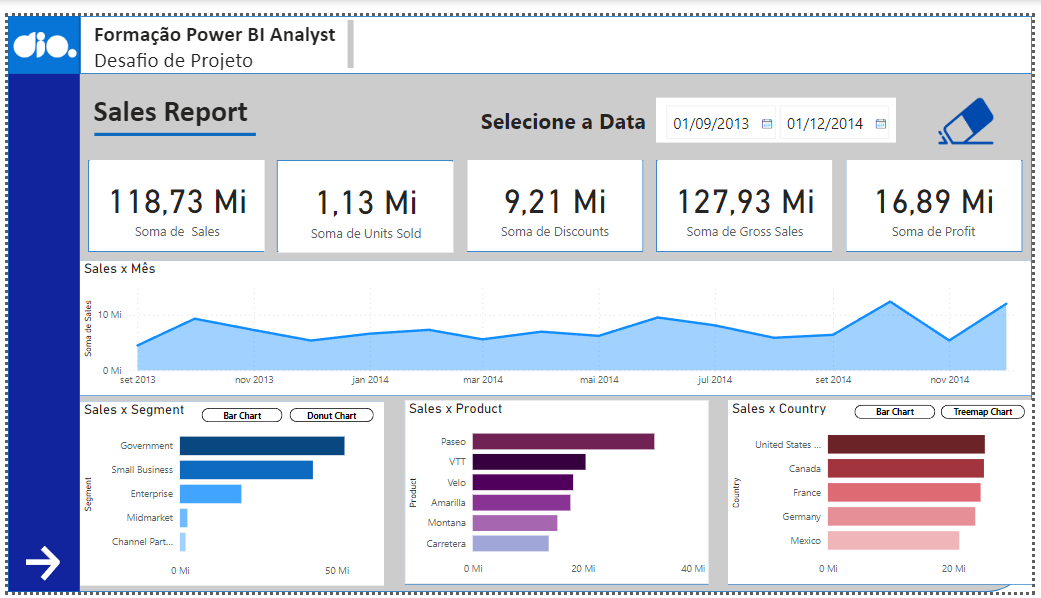

The dashboard page shown, as its layout file describes it:
{"tool":"powerbi","page":{"name":"Página 1","canvas":[1280,720],"ordinal":0},"visuals":[{"type":"shape","box":[0,0,1280,720],"z":0},{"type":"shape","box":[0,0,90,720],"z":0,"group":"g4"},{"type":"group","id":"g1","title":"Cartões","box":[100,180,1168.3,115],"z":0,"group":"g5"},{"type":"shape","box":[100,180,220,115],"z":0,"group":"g1"},{"type":"clusteredBarChart","title":"Sales x Country","fields":{"Y":["Sum(financials. Sales)"],"Category":["financials.Country"]},"box":[900,480,380,230],"z":0,"group":"g3"},{"type":"clusteredBarChart","title":"Sales x Segment","fields":{"Y":["Sum(financials. Sales)"],"Category":["financials.Segment"]},"box":[90,482,380,230],"z":0,"group":"g2"},{"type":"shape","box":[90,0,1190,72.5],"z":1000},{"type":"shape","box":[1048.3,180,220.1,115],"z":1000,"group":"g1"},{"type":"card","fields":{"Values":["Sum(financials.Units Sold)"]},"box":[337,181,219,114],"z":1000,"group":"g5"},{"type":"actionButton","box":[15.8,657.7,59.6,52.6],"z":1000,"group":"g4"},{"type":"shape","box":[0,0,88.9,72.4],"z":2000,"group":"g4"},{"type":"textbox","box":[101.2,0,335,72.5],"z":2000},{"type":"card","fields":{"Values":["Sum(financials.Discounts)"]},"box":[574,180,219,114],"z":2000,"group":"g5"},{"type":"shape","box":[810.2,180,220,115],"z":2000,"group":"g1"},{"type":"shape","title":"b4","box":[1166.5,485.1,105.2,17.5],"z":2000,"group":"g3"},{"type":"shape","title":"b2","box":[351.9,490,105.2,17.5],"z":2000,"group":"g2"},{"type":"image","box":[2.1,0,88.9,72.4],"z":3000,"group":"g4"},{"type":"shape","box":[108,124,202,48],"z":3000},{"type":"shape","box":[574.1,180,220,115],"z":3000,"group":"g1"},{"type":"card","fields":{"Values":["Sum(financials.Gross Sales)"]},"box":[812,180,218,114],"z":3000,"group":"g5"},{"type":"shape","title":"b3","box":[1057.2,485,101.1,17.8],"z":3000,"group":"g3"},{"type":"shape","title":"b1","box":[242.6,489.9,101.1,17.8],"z":3000,"group":"g2"},{"type":"textbox","box":[102,90,250,68],"z":4000},{"type":"shape","box":[336.1,180,220,115],"z":4000,"group":"g1"},{"type":"card","fields":{"Values":["Sum(financials.Profit)"]},"box":[1048,180,218,114],"z":4000,"group":"g5"},{"type":"card","fields":{"Values":["Sum(financials. Sales)"]},"box":[101,180,219,114],"z":5000,"group":"g1"},{"type":"shape","box":[90,305,1190,168.8],"z":5000},{"type":"shape","box":[90,482.2,380,228.9],"z":6000},{"type":"shape","box":[495.6,482.2,380,228.9],"z":7000},{"type":"shape","title":"Forma","box":[900,482,380,229],"z":8000},{"type":"areaChart","title":"Sales x Mês","fields":{"Category":["financials.Date.Variation.Hierarquia de datas.Ano","financials.Date.Variation.Hierarquia de datas.Trimestre","financials.Date.Variation.Hierarquia de datas.Mês","financials.Date.Variation.Hierarquia de datas.Dia"],"Y":["Sum(financials. Sales)"]},"box":[90,306,1188,168],"z":9000},{"type":"clusteredBarChart","title":"Sales x Product","fields":{"Y":["Sum(financials. Sales)"],"Category":["financials.Product"]},"box":[495.7,480,380,230],"z":10000},{"type":"slicer","fields":{"Values":["financials.Date"]},"box":[810,102,300,56],"z":11000},{"type":"textbox","box":[585.8,108.7,224.5,54.4],"z":12000},{"type":"group","id":"g2","title":"Grupo 1","box":[90,482,381.8,230.1],"z":13000},{"type":"group","id":"g3","title":"Grupo 2","box":[899.7,480,380.6,232.1],"z":14000},{"type":"image","box":[1157.5,93,78.9,78.9],"z":15000},{"type":"group","id":"g4","title":"Grupo 3","box":[0,0,91,720],"z":16000},{"type":"group","id":"g5","title":"Cartoes","box":[100,180,1168.3,115],"z":17000}]}

Visuals, with their boxes on the page's 1280x720 design canvas (x1, y1, x2, y2). These are canvas units, not pixel positions in the 1041x598 screenshot, which may show the page scaled, cropped or inside an application window:
shape: crop(0, 0, 1280, 720)
shape: crop(0, 0, 90, 720)
"Cartões" group: crop(100, 180, 1268, 295)
shape: crop(100, 180, 320, 295)
"Sales x Country" clusteredBarChart: crop(900, 480, 1280, 710)
"Sales x Segment" clusteredBarChart: crop(90, 482, 470, 712)
shape: crop(90, 0, 1280, 72)
shape: crop(1048, 180, 1268, 295)
card - Sum(financials.Units Sold): crop(337, 181, 556, 295)
actionButton: crop(16, 658, 75, 710)
shape: crop(0, 0, 89, 72)
textbox: crop(101, 0, 436, 72)
card - Sum(financials.Discounts): crop(574, 180, 793, 294)
shape: crop(810, 180, 1030, 295)
"b4" shape: crop(1166, 485, 1272, 503)
"b2" shape: crop(352, 490, 457, 508)
image: crop(2, 0, 91, 72)
shape: crop(108, 124, 310, 172)
shape: crop(574, 180, 794, 295)
card - Sum(financials.Gross Sales): crop(812, 180, 1030, 294)
"b3" shape: crop(1057, 485, 1158, 503)
"b1" shape: crop(243, 490, 344, 508)
textbox: crop(102, 90, 352, 158)
shape: crop(336, 180, 556, 295)
card - Sum(financials.Profit): crop(1048, 180, 1266, 294)
card - Sum(financials. Sales): crop(101, 180, 320, 294)
shape: crop(90, 305, 1280, 474)
shape: crop(90, 482, 470, 711)
shape: crop(496, 482, 876, 711)
"Forma" shape: crop(900, 482, 1280, 711)
"Sales x Mês" areaChart: crop(90, 306, 1278, 474)
"Sales x Product" clusteredBarChart: crop(496, 480, 876, 710)
slicer - financials.Date: crop(810, 102, 1110, 158)
textbox: crop(586, 109, 810, 163)
"Grupo 1" group: crop(90, 482, 472, 712)
"Grupo 2" group: crop(900, 480, 1280, 712)
image: crop(1158, 93, 1236, 172)
"Grupo 3" group: crop(0, 0, 91, 720)
"Cartoes" group: crop(100, 180, 1268, 295)
